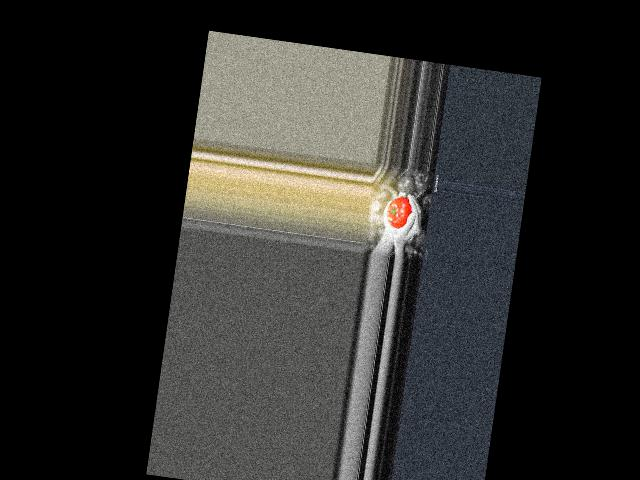tomato: (385, 195, 413, 230)
